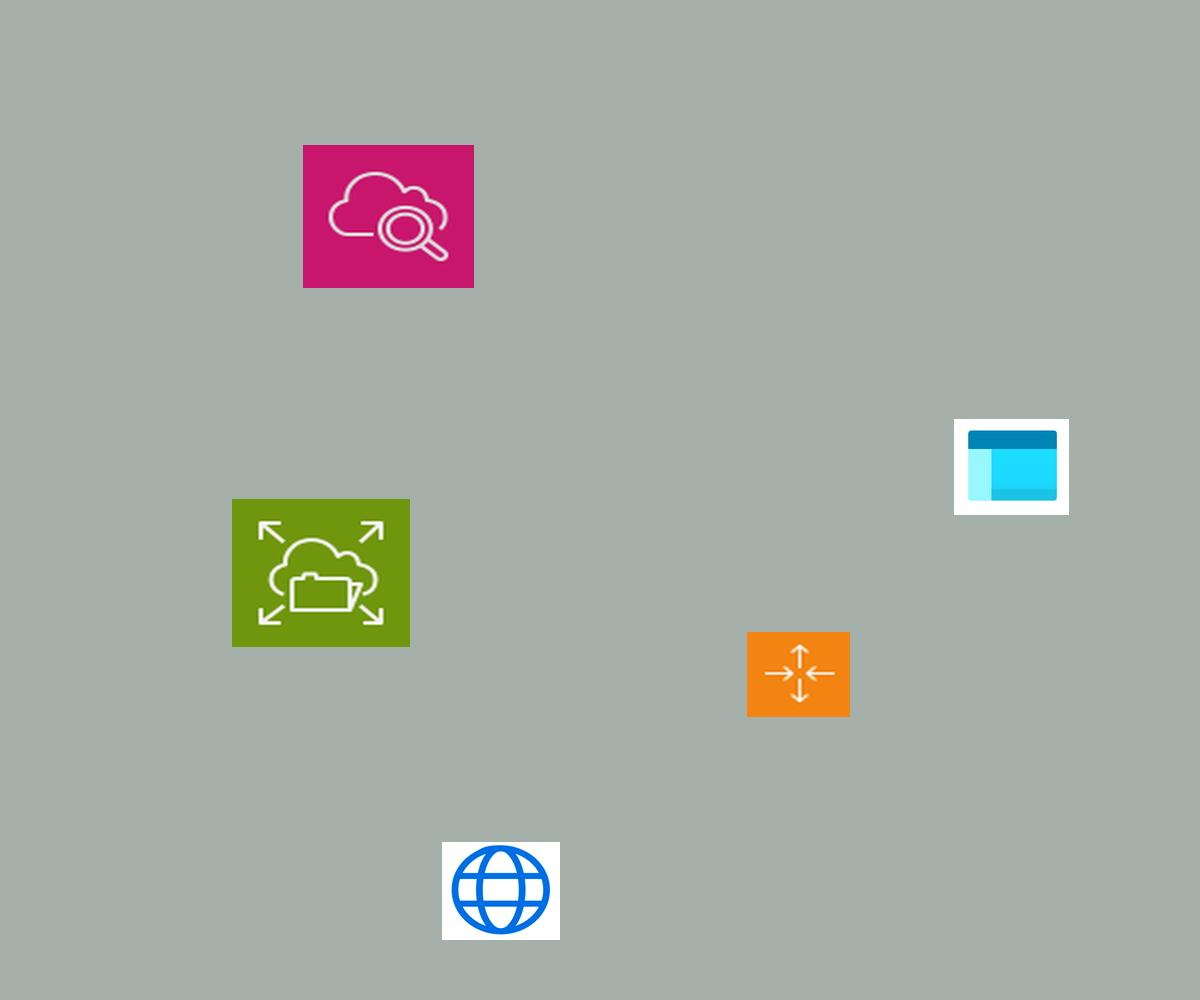AWS-CloudWatch: (303, 145, 474, 288)
AWS-EFS: (232, 499, 410, 647)
AWS-Scaling-group: (747, 632, 850, 717)
Azure_http: (442, 842, 560, 940)
Azure_management-portal: (954, 419, 1069, 515)
